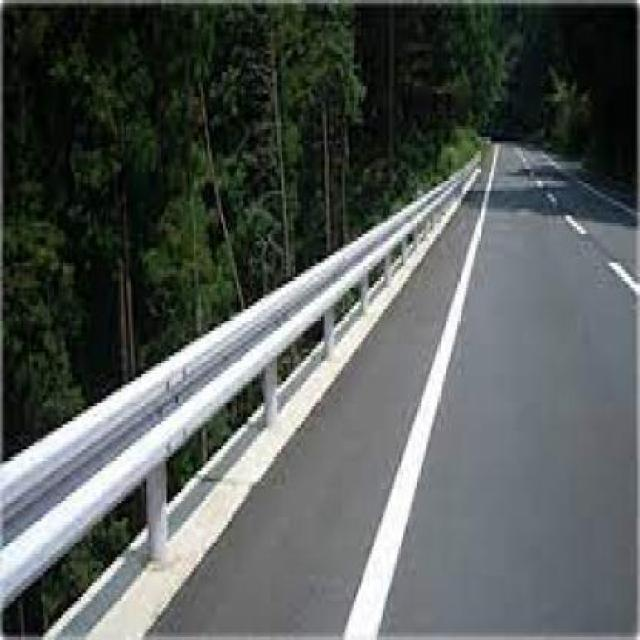Guard rail: (0, 150, 478, 634)
